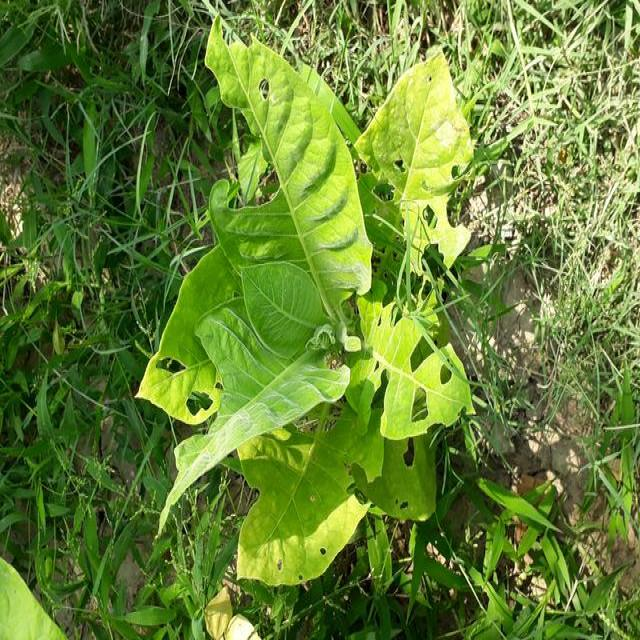crop: (147, 7, 479, 578), (0, 555, 65, 640)
